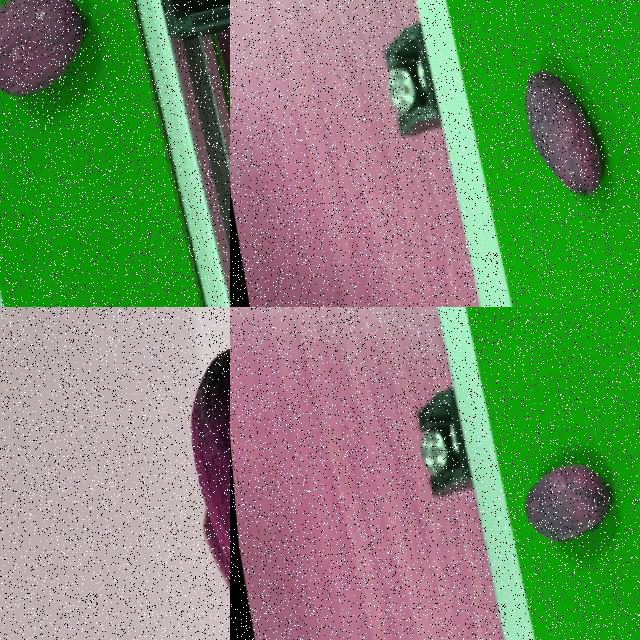Agglomerated_cocoabeans: (86, 307, 229, 639)
Fine_cocoabeans: (487, 0, 639, 306), (464, 365, 639, 613), (0, 0, 157, 217)
